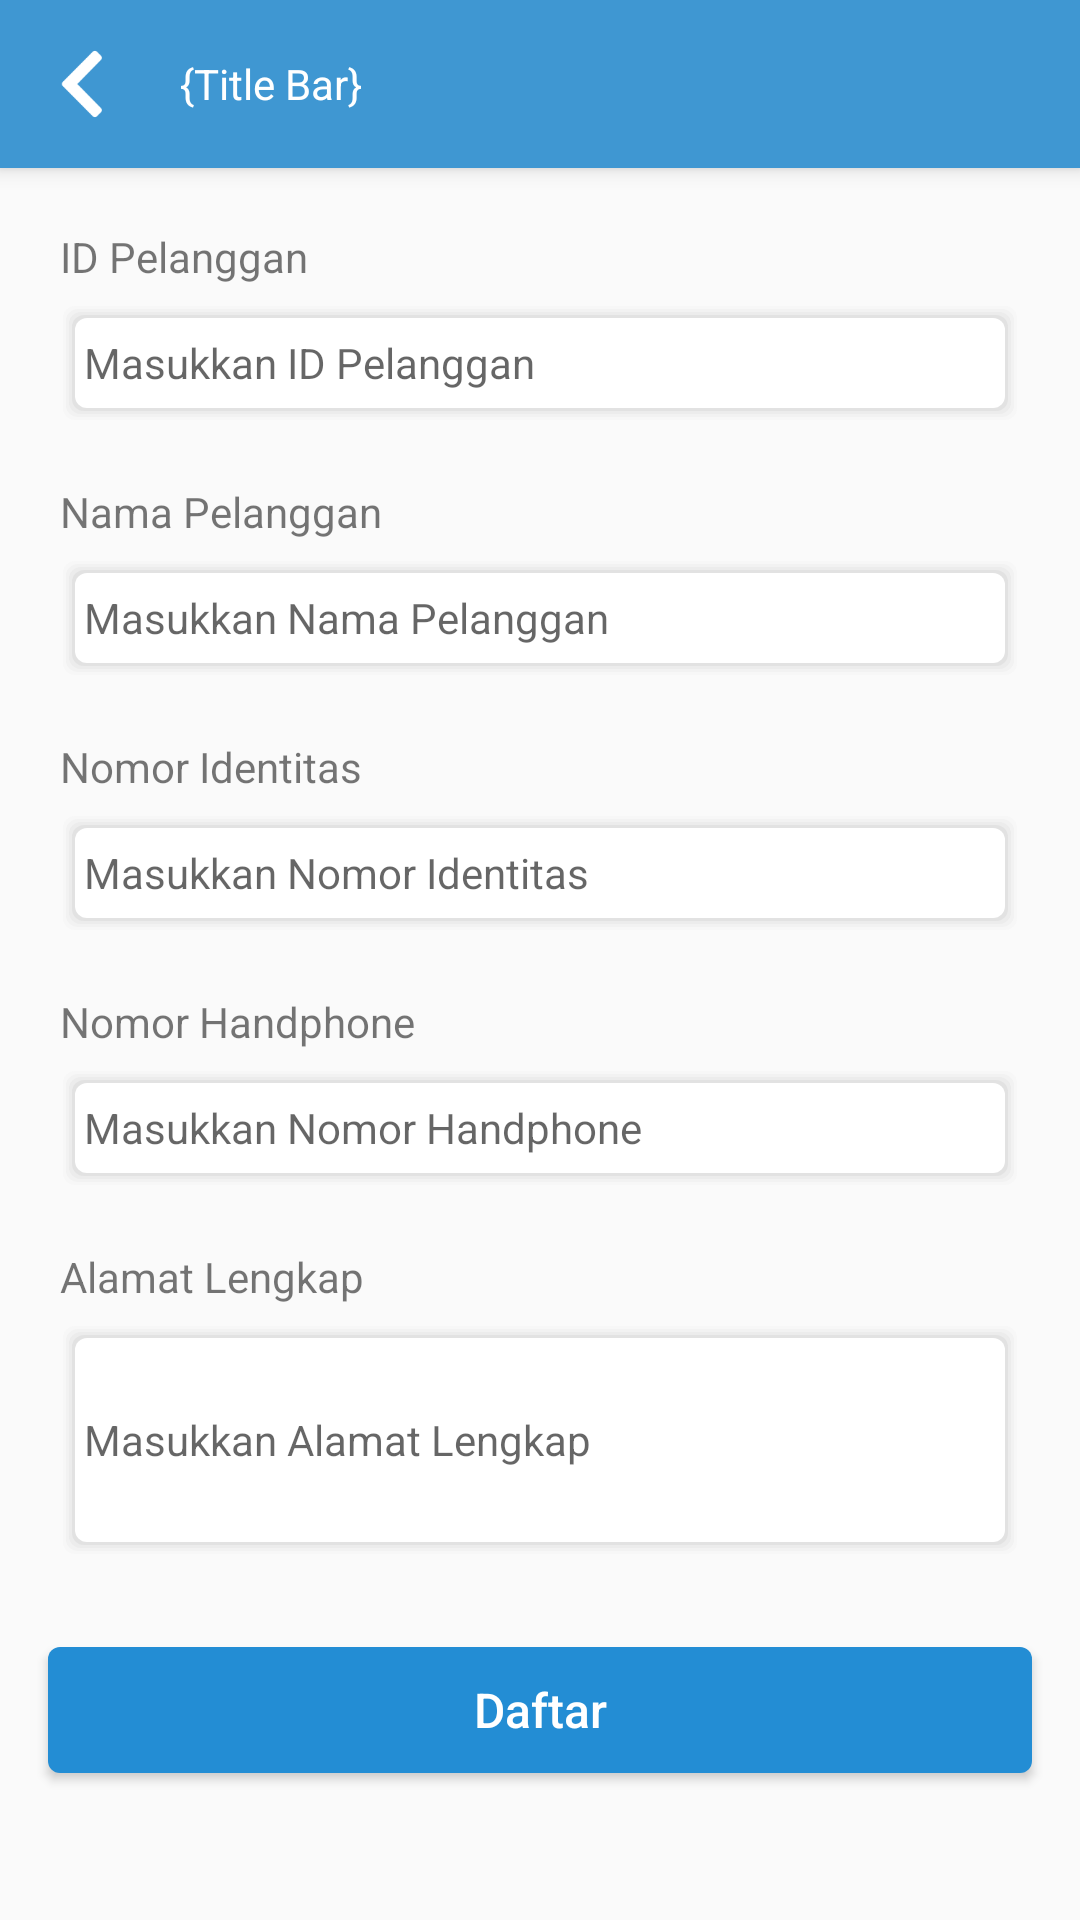

Icons on this 1080 × 1920 Android screen, each with the point to tap as [x,y]:
leftarrowwhite: [81,84]
